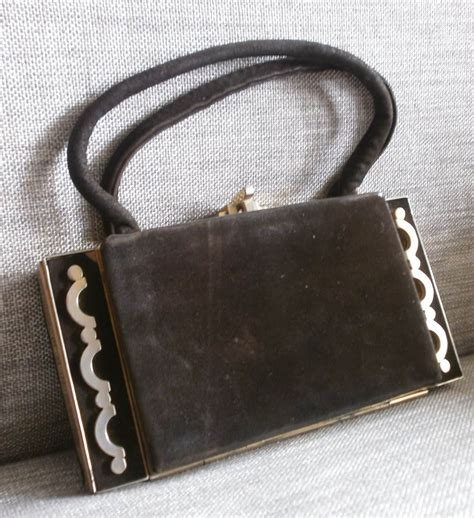gamuza: (95, 194, 446, 475)
